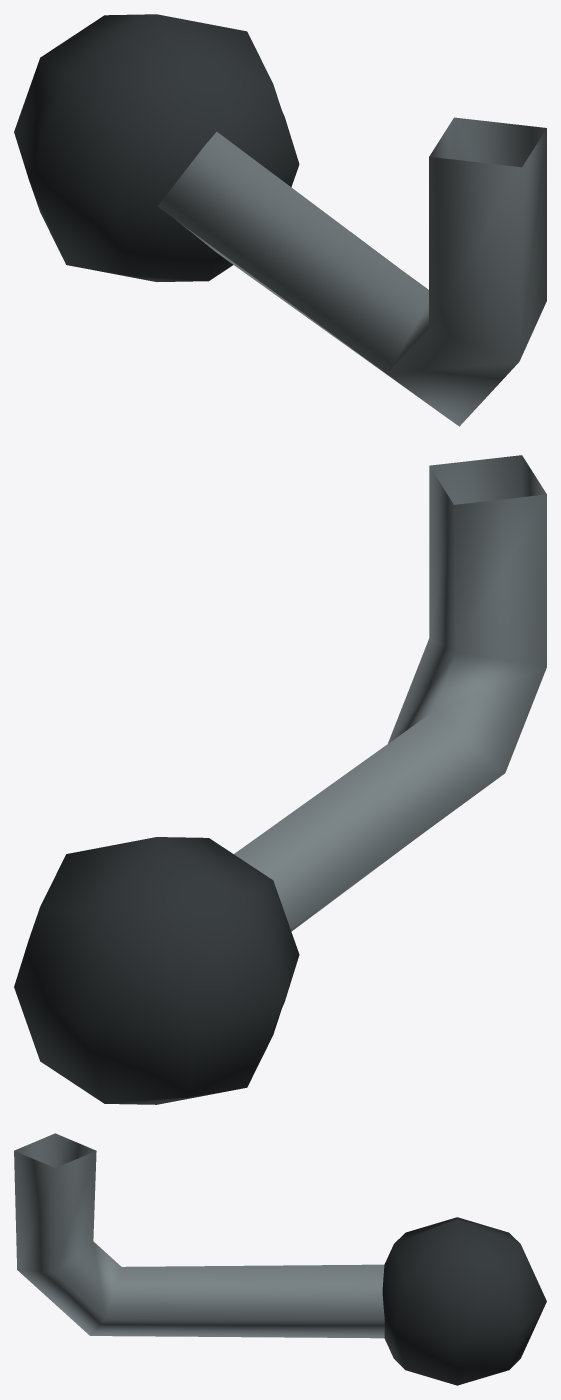
Rendered from Sphere_Vehicle_Seat_L_Arm_002.fbx.
3 renders of one model, top to bottom at view 1: azimuth 30°, elevation 25°; view 2: azimuth 150°, elevation 25°; view 3: azimuth 270°, elevation 25°, orthographic. The views are drawn at different scales.
Parts seen in each view (by area): view 1: Sphere_Vehicle_Seat_L_Arm_002; view 2: Sphere_Vehicle_Seat_L_Arm_002; view 3: Sphere_Vehicle_Seat_L_Arm_002.
Part boxes in pixels (x1,y1,x2,y2): Sphere_Vehicle_Seat_L_Arm_002: (14,14,546,426); Sphere_Vehicle_Seat_L_Arm_002: (14,455,546,1104); Sphere_Vehicle_Seat_L_Arm_002: (14,1133,546,1385).
Bounding box in the file's own units: 10.43 × 30.99 × 14.88.
